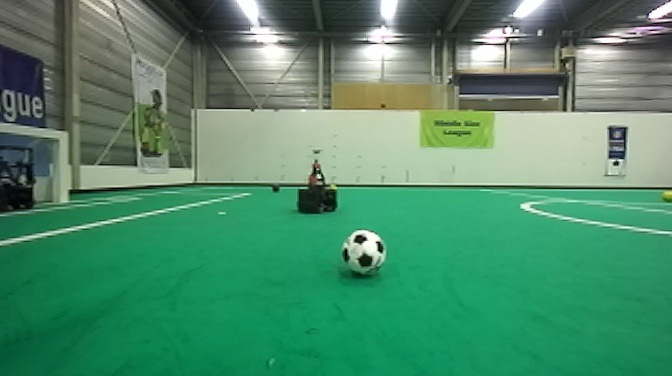ball: (340, 228, 389, 278), (270, 182, 282, 192)
goalpost: (56, 130, 69, 204)
robot: (295, 142, 344, 217)
